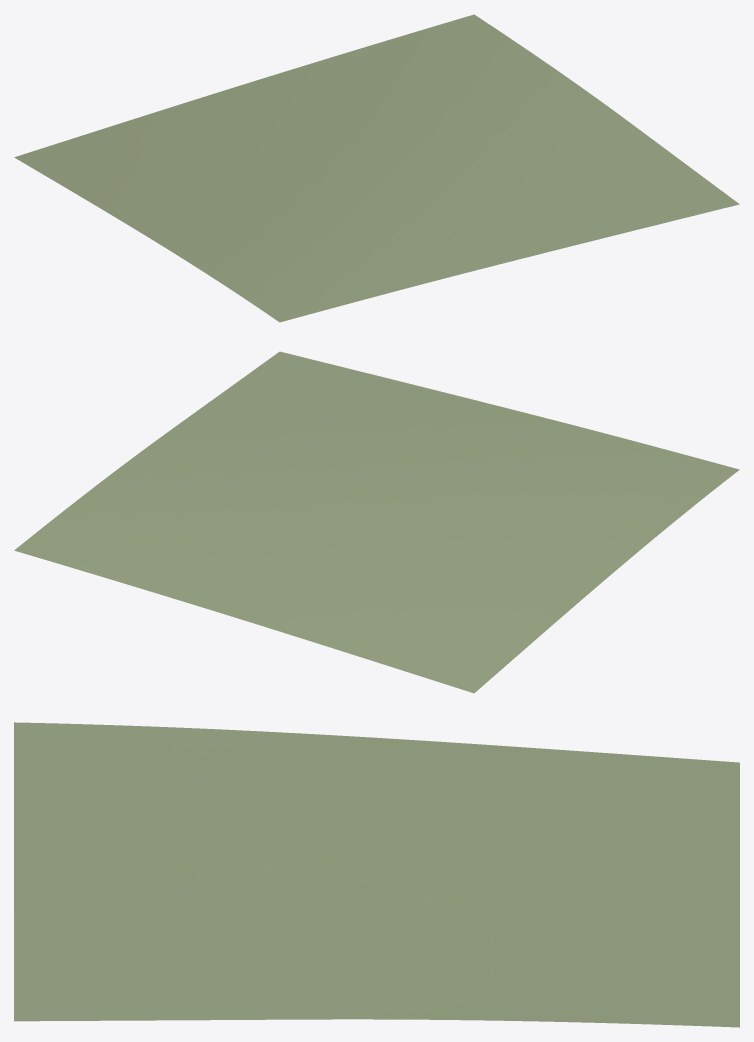
The model's file is desert-10-26.glb.
3 renders of one model, top to bottom at view 1: azimuth 30°, elevation 25°; view 2: azimuth 150°, elevation 25°; view 3: azimuth 270°, elevation 25°, orthographic. The views are drawn at different scales.
Parts seen in each view (by area): view 1: desert-10-26; view 2: desert-10-26; view 3: desert-10-26.
Boxes of the visible parts, left/top/right/bottom form: desert-10-26: left=14, top=14, right=739, bottom=322; desert-10-26: left=14, top=351, right=739, bottom=693; desert-10-26: left=14, top=722, right=739, bottom=1027.
Size of the model in its own units: 512 by 38.84 by 512.
